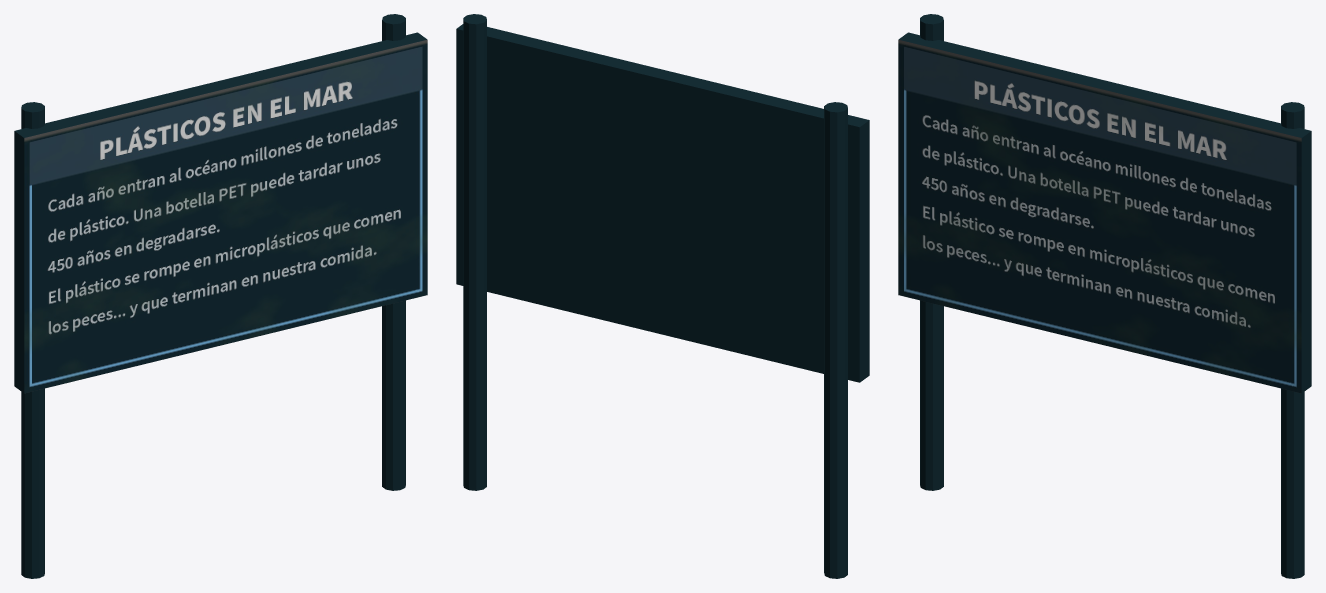
The model's file is letrero_plasticos.fbx.
3 renders of one model, left to right at view 1: azimuth 30°, elevation 25°; view 2: azimuth 150°, elevation 25°; view 3: azimuth 330°, elevation 25°, orthographic.
Visible parts, largest first — view 1: letrero_plasticos; view 2: letrero_plasticos; view 3: letrero_plasticos.
Boxes of the visible parts, x1,y1,x2,y2 form: letrero_plasticos: (14, 14, 427, 578); letrero_plasticos: (456, 14, 869, 578); letrero_plasticos: (898, 14, 1311, 578).
Bounding box in the file's own units: 1.9 × 2.1 × 0.15.
1 material, 1 textured.
